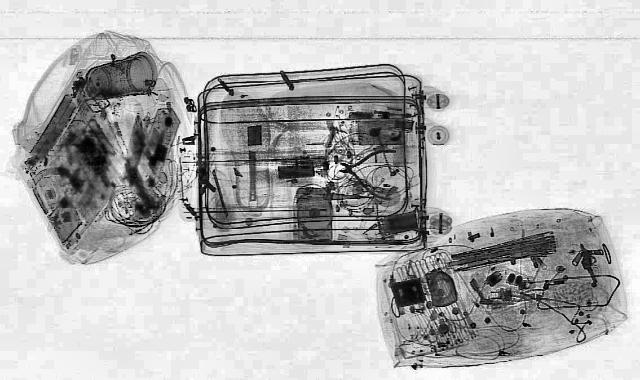Pliers: (332, 146, 401, 200)
